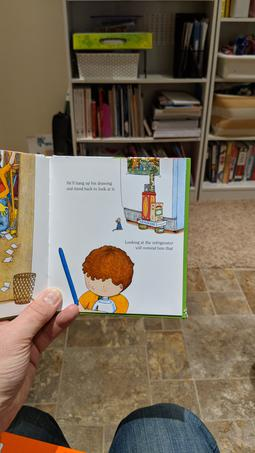text block: (58, 174, 119, 196), (121, 235, 180, 255)
